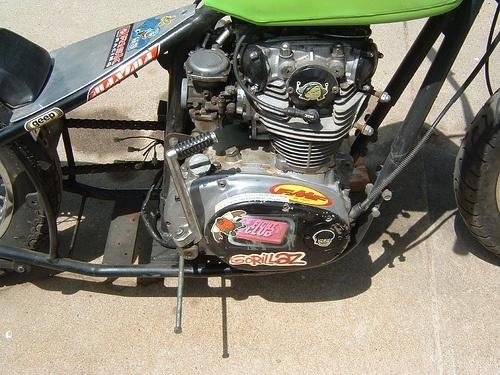motorbike: (1, 1, 500, 290)
